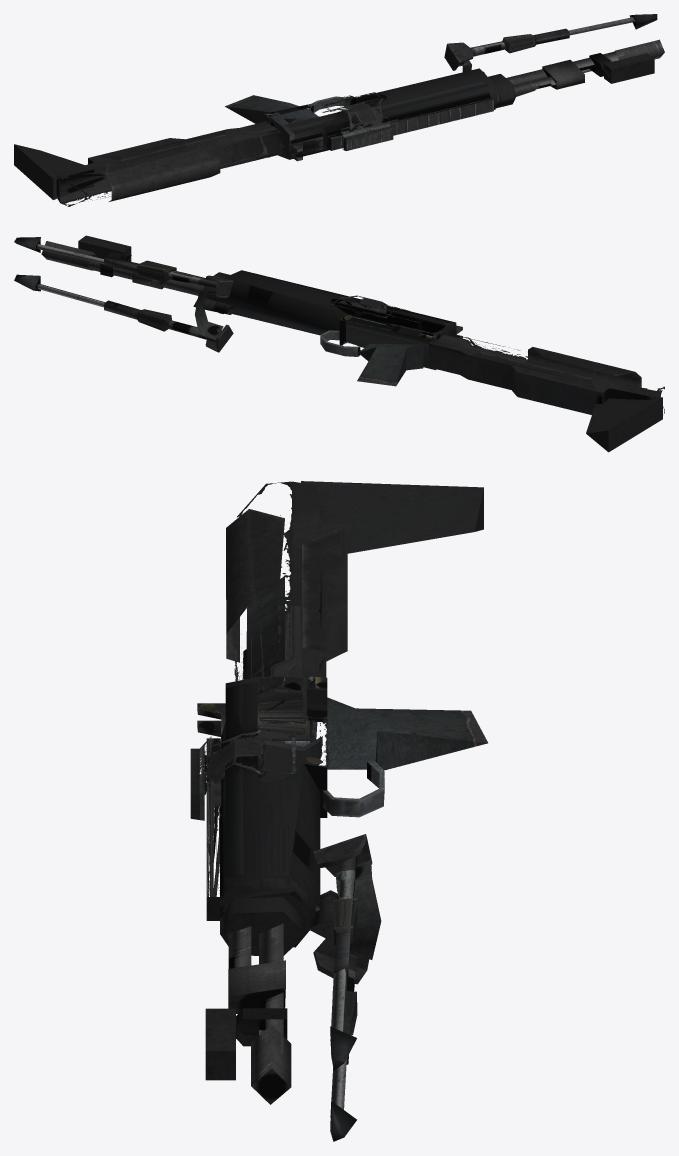
The model's file is t6_wpn_sniper_svu_world_LOD1.obj.
The picture shows the model from 3 angles, top to bottom: view 1: azimuth 30°, elevation 25°; view 2: azimuth 150°, elevation 25°; view 3: azimuth 270°, elevation 25°; orthographic projection. The views are drawn at different scales.
Visible parts, largest first — view 1: mtl_t6_wpn_sniper_svu, mtl_t6_wpn_sniper_svu_camo2, mtl_t6_wpn_sniper_svu_camo3; view 2: mtl_t6_wpn_sniper_svu, mtl_t6_wpn_sniper_svu_camo2, mtl_t6_wpn_sniper_svu_camo3; view 3: mtl_t6_wpn_sniper_svu, mtl_t6_wpn_sniper_svu_camo2, mtl_t6_wpn_sniper_svu_camo3.
Boxes of the visible parts, x1,y1,x2,y2 form: mtl_t6_wpn_sniper_svu: [56, 14, 664, 206]; mtl_t6_wpn_sniper_svu_camo2: [14, 95, 318, 201]; mtl_t6_wpn_sniper_svu_camo3: [66, 34, 536, 176]; mtl_t6_wpn_sniper_svu: [14, 235, 664, 414]; mtl_t6_wpn_sniper_svu_camo2: [357, 343, 662, 452]; mtl_t6_wpn_sniper_svu_camo3: [137, 263, 656, 391]; mtl_t6_wpn_sniper_svu: [190, 481, 384, 1141]; mtl_t6_wpn_sniper_svu_camo2: [226, 481, 487, 770]; mtl_t6_wpn_sniper_svu_camo3: [211, 482, 365, 1035].
Bounding box in the file's own units: 99.88 × 10.79 × 21.05.
